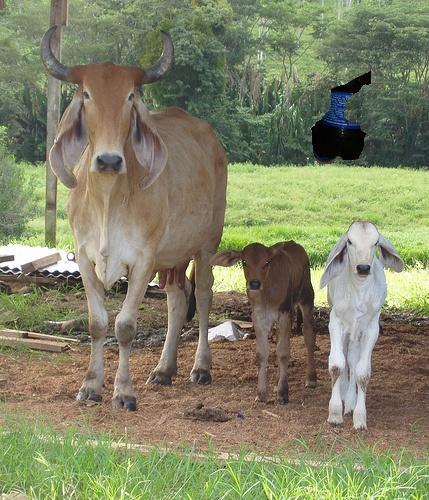tampered: (312, 70, 371, 164)
